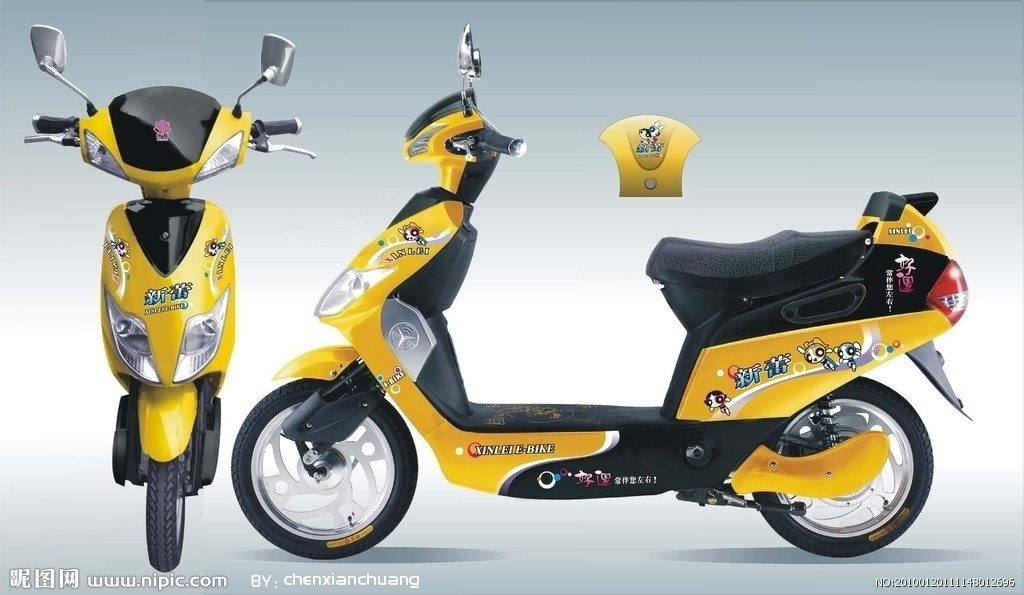non-vehicle: (229, 97, 972, 563), (28, 86, 295, 571)
